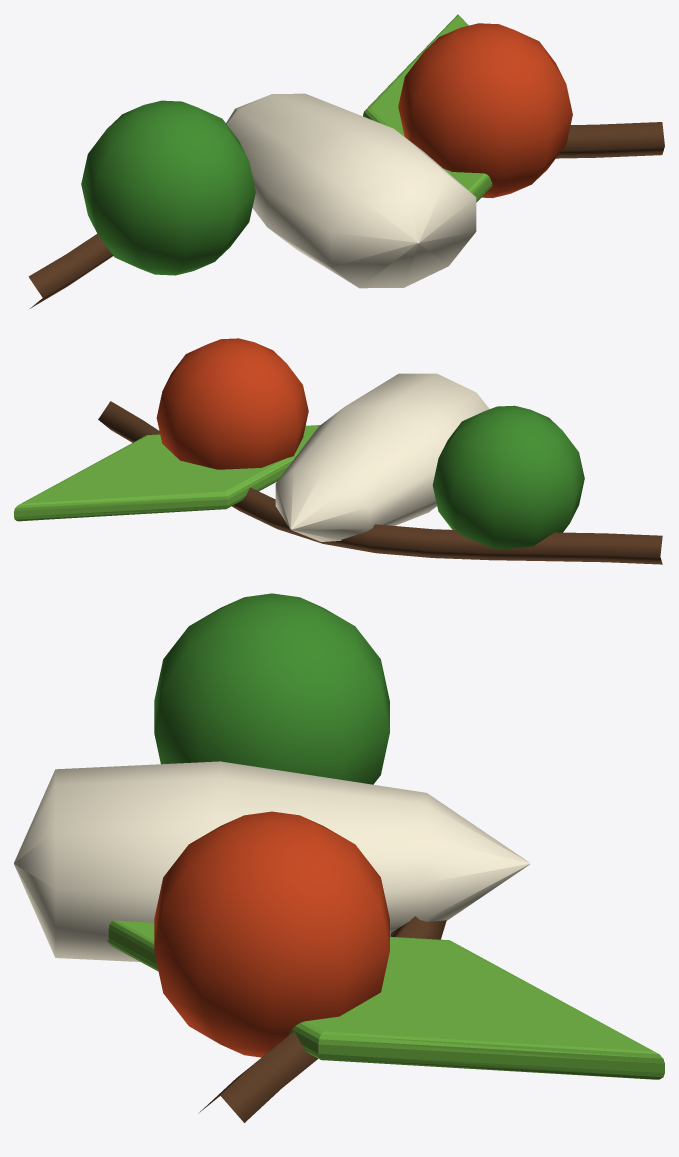
Rendered from goblin_charm.glb.
3 renders of one model, top to bottom at view 1: azimuth 30°, elevation 25°; view 2: azimuth 150°, elevation 25°; view 3: azimuth 270°, elevation 25°, orthographic. The views are drawn at different scales.
Parts seen in each view (by area): view 1: goblin_charm; view 2: goblin_charm; view 3: goblin_charm.
Part boxes in pixels (x1=…): goblin_charm: x1=28, y1=14, x2=664, y2=308; goblin_charm: x1=14, y1=338, x2=662, y2=564; goblin_charm: x1=14, y1=593, x2=664, y2=1122.
Bounding box in the file's own units: 0.1019 × 0.0251 × 0.0631.
